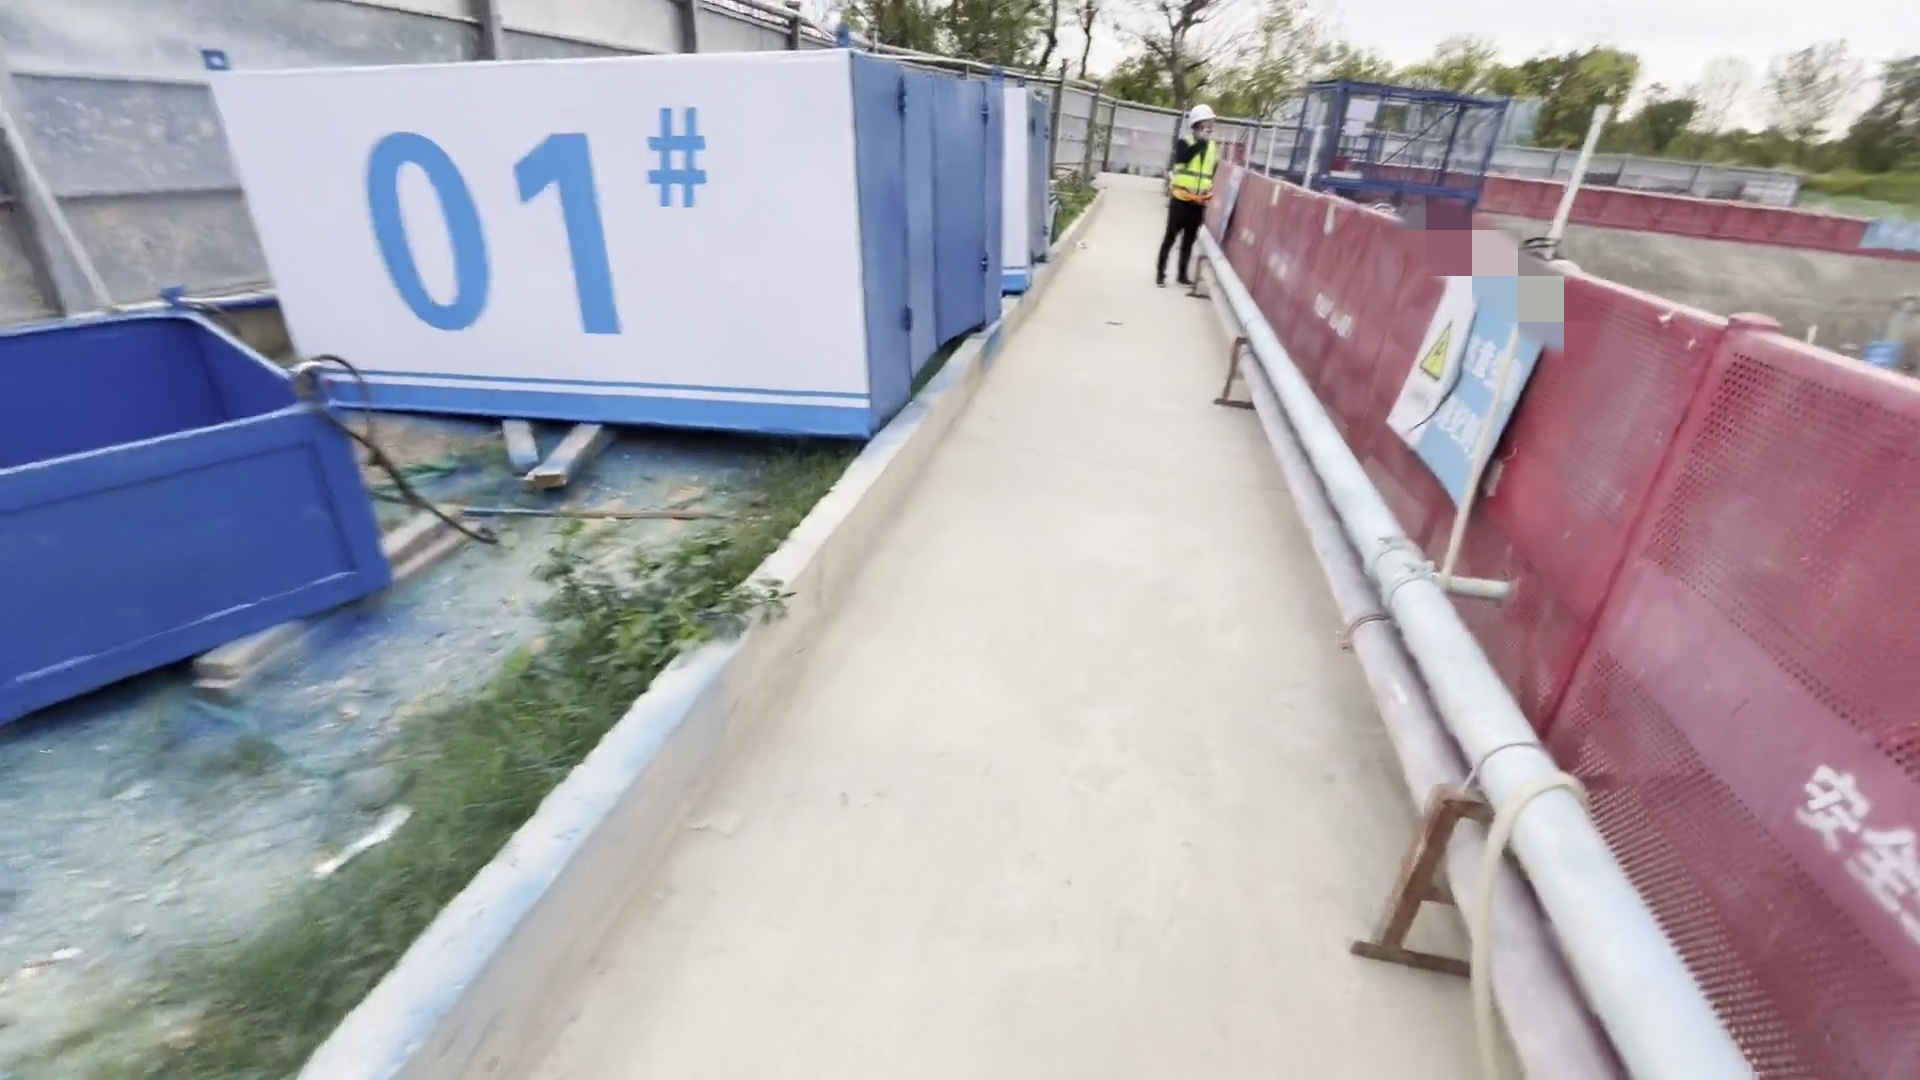fence: (1246, 172, 1916, 1080)
helmet: (1184, 102, 1217, 132)
hopper: (1, 279, 403, 742)
person: (1152, 101, 1219, 297)
slogan: (1386, 270, 1541, 495)
vest: (1160, 131, 1229, 211)
